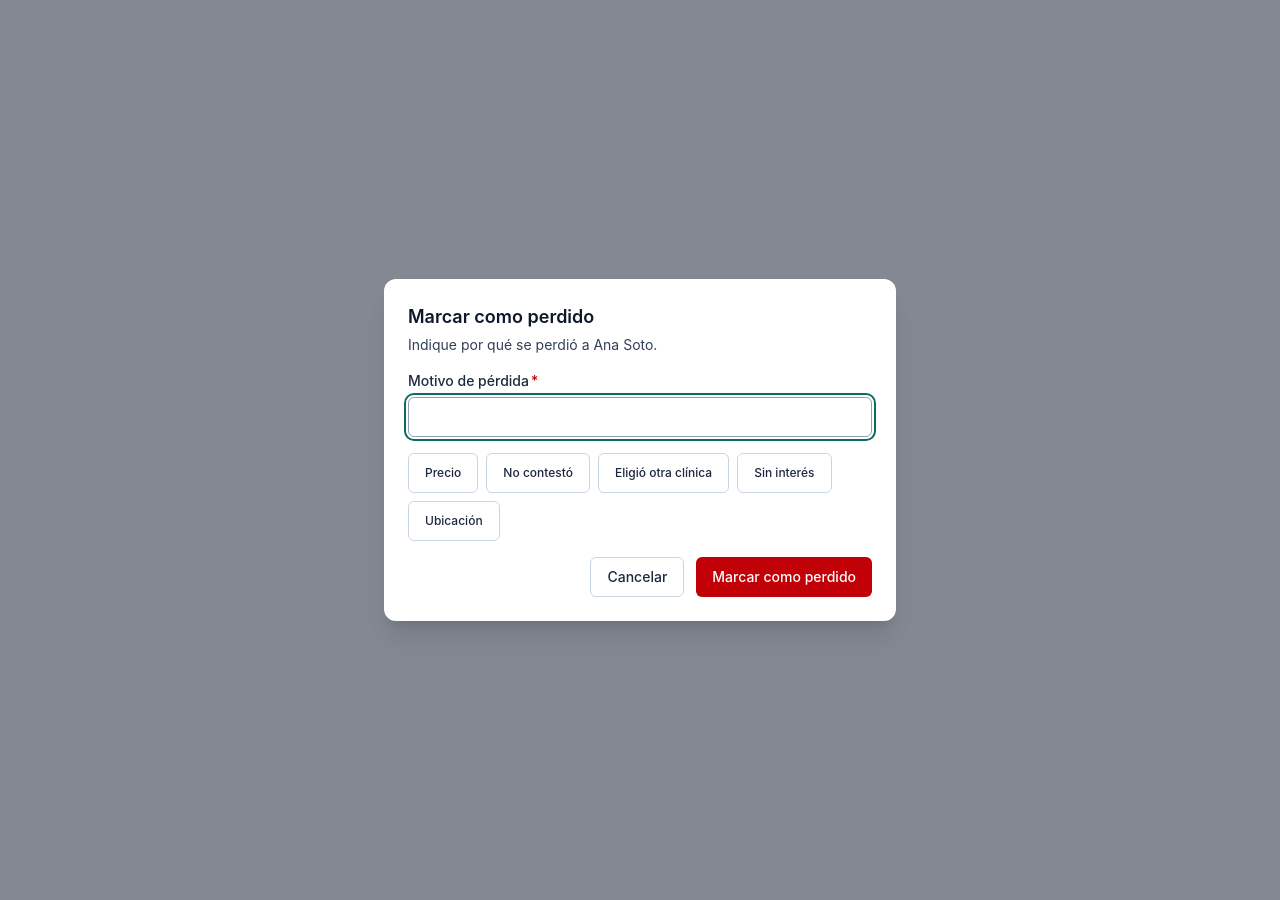
Test: LostReasonDialog › exige el motivo: vacío no confirma y muestra el error
Click the button "Marcar como perdido": (784, 577) x1=696 y1=557 x2=872 y2=597
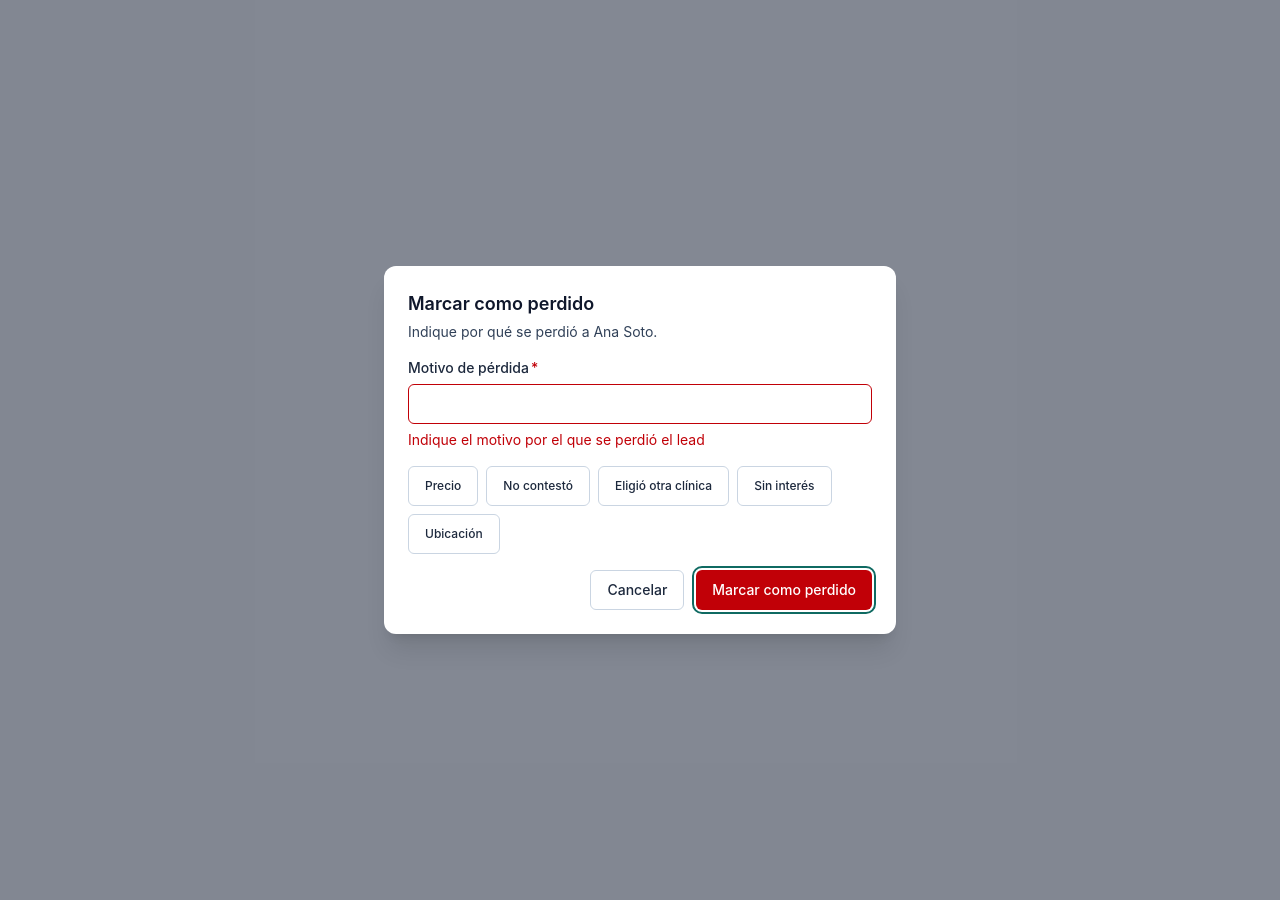
Result: the text "Indique el motivo por el que se perdió el lead" is shown at x1=408 y1=431 x2=705 y2=448
